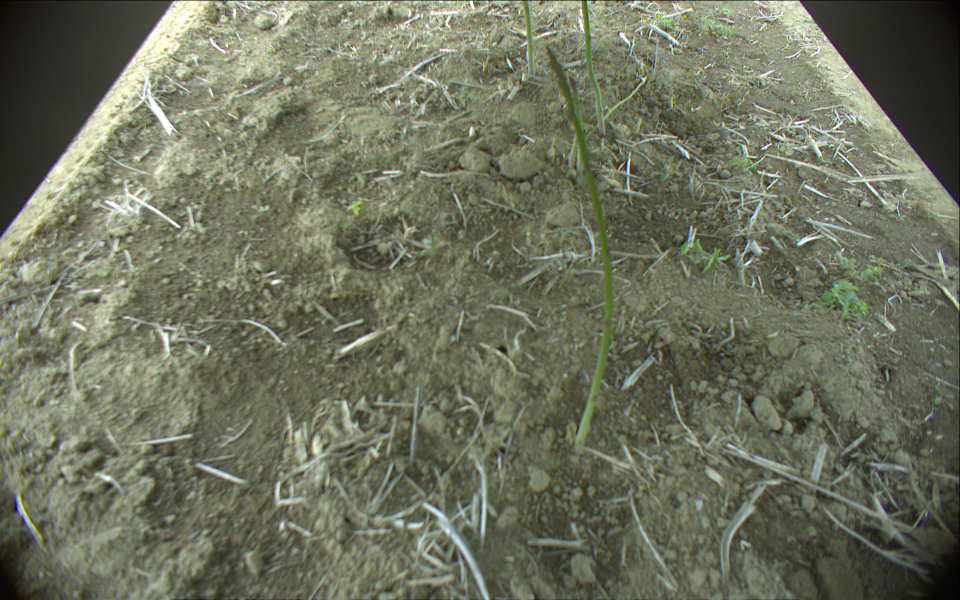aspa: (546, 47, 613, 451), (580, 1, 607, 136), (524, 1, 535, 77)
